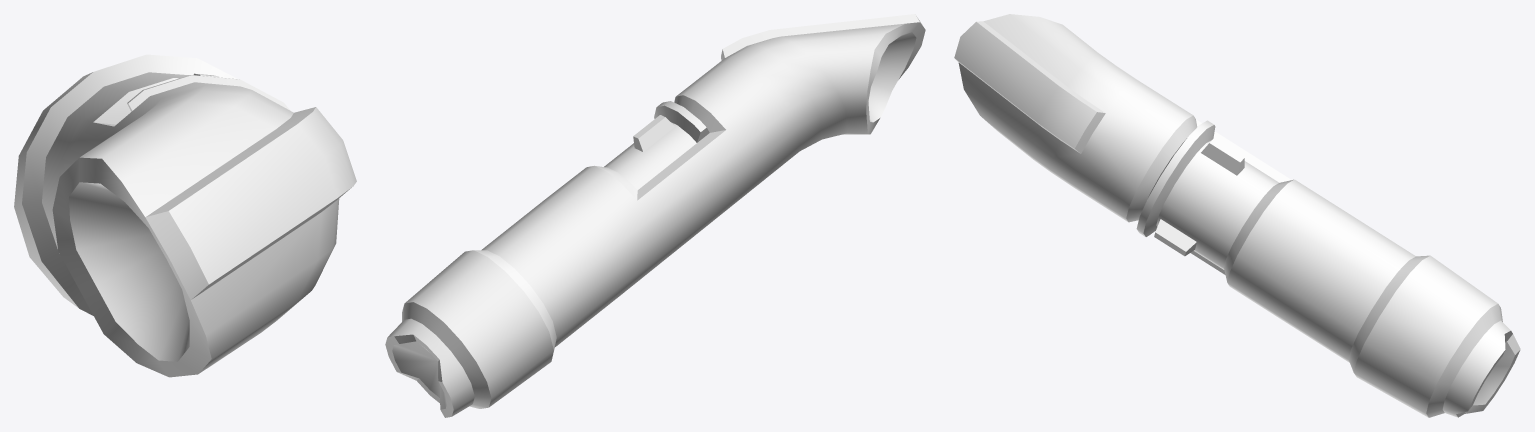
The model's file is ama_collectable_scrap_11.glb.
3 views of the same model, side by side, from view 1: azimuth 30°, elevation 25°; view 2: azimuth 150°, elevation 25°; view 3: azimuth 270°, elevation 25° (orthographic). The views are drawn at different scales.
Parts seen in each view (by area): view 1: shipScrapPart_11; view 2: shipScrapPart_11; view 3: shipScrapPart_11.
Boxes of the visible parts, x1,y1,x2,y2 form: shipScrapPart_11: (14, 54, 356, 377); shipScrapPart_11: (385, 14, 925, 417); shipScrapPart_11: (954, 14, 1520, 417).
Size of the model in its own units: 0.8667 by 0.8011 by 1.44.
2 materials, 2 textured.
